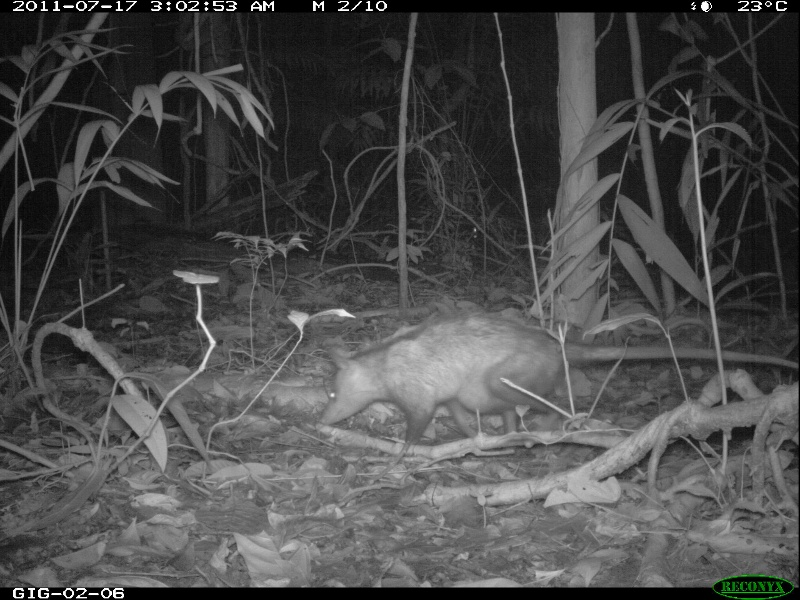opossum: (312, 309, 797, 445)
